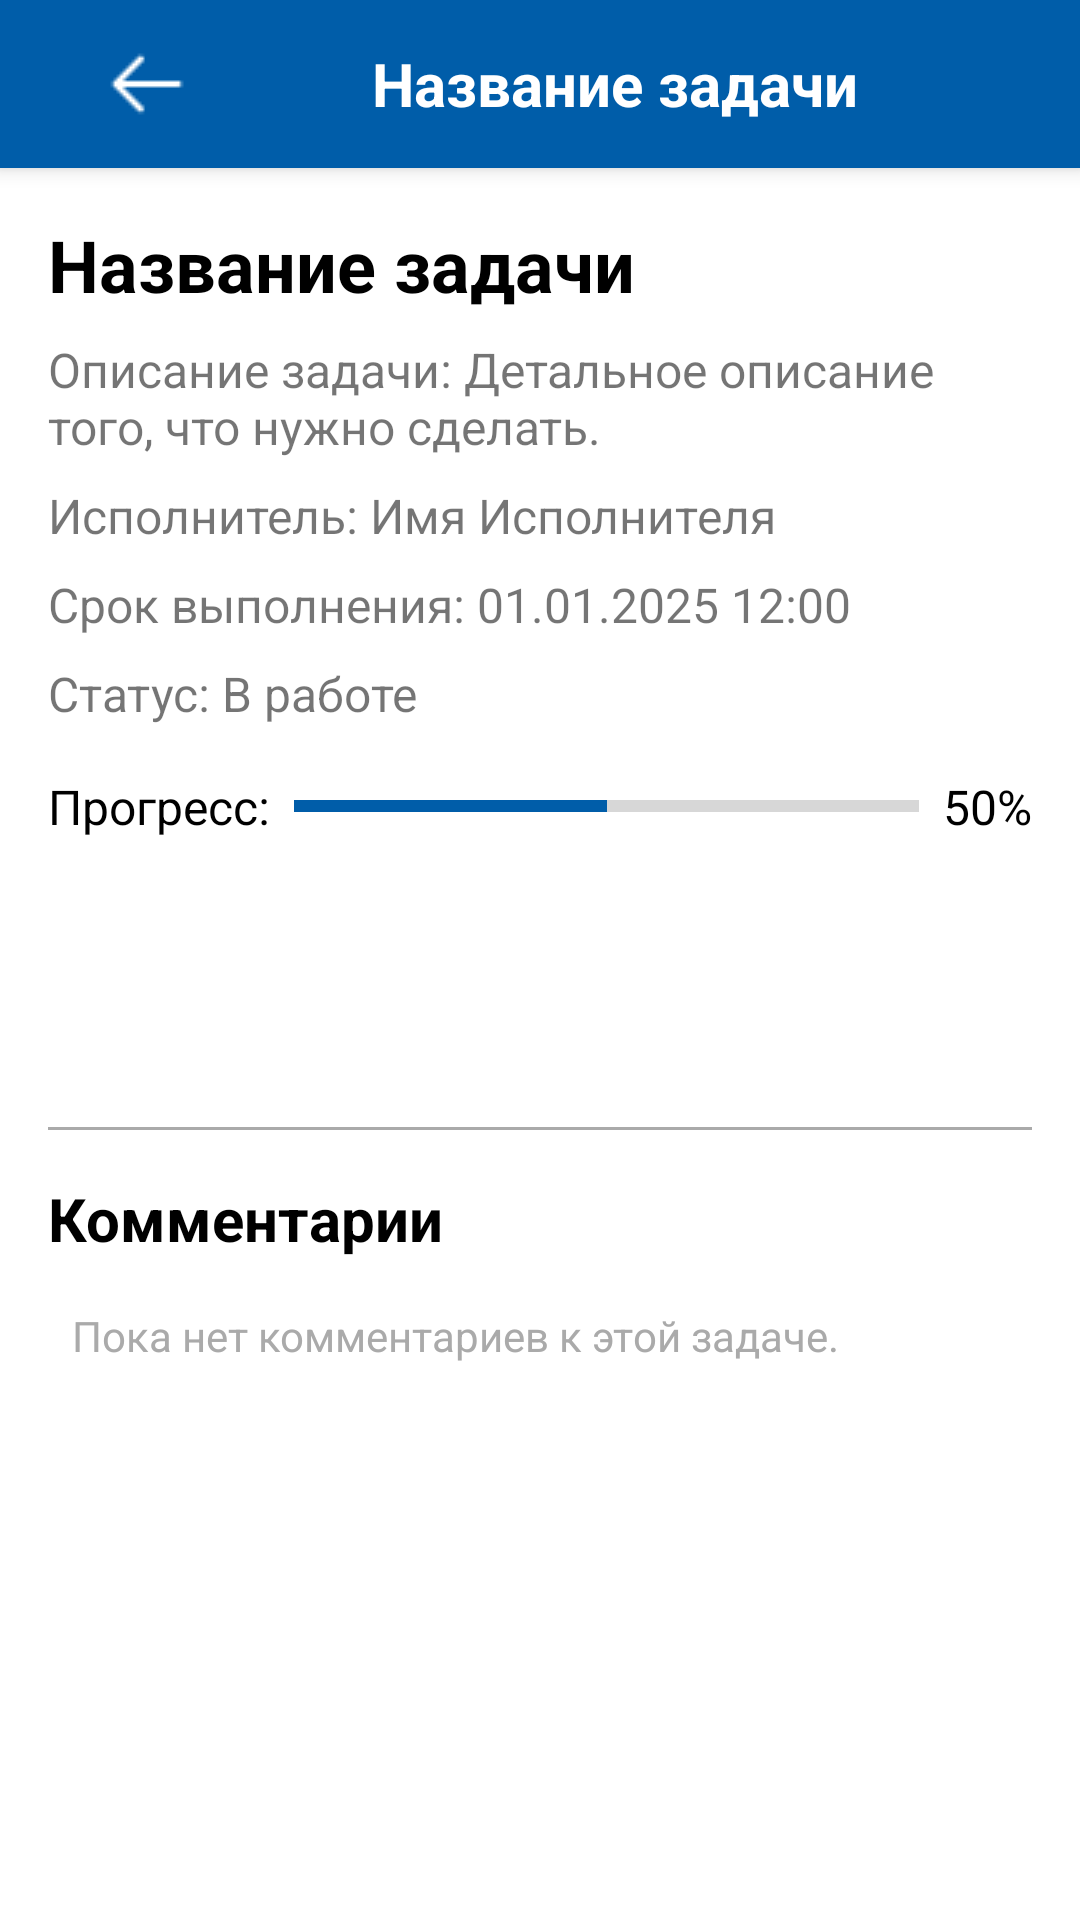

Icon click points for this 1080 x 1920 phone screenshot, format point (x, y):
Назад: point (147, 84)
